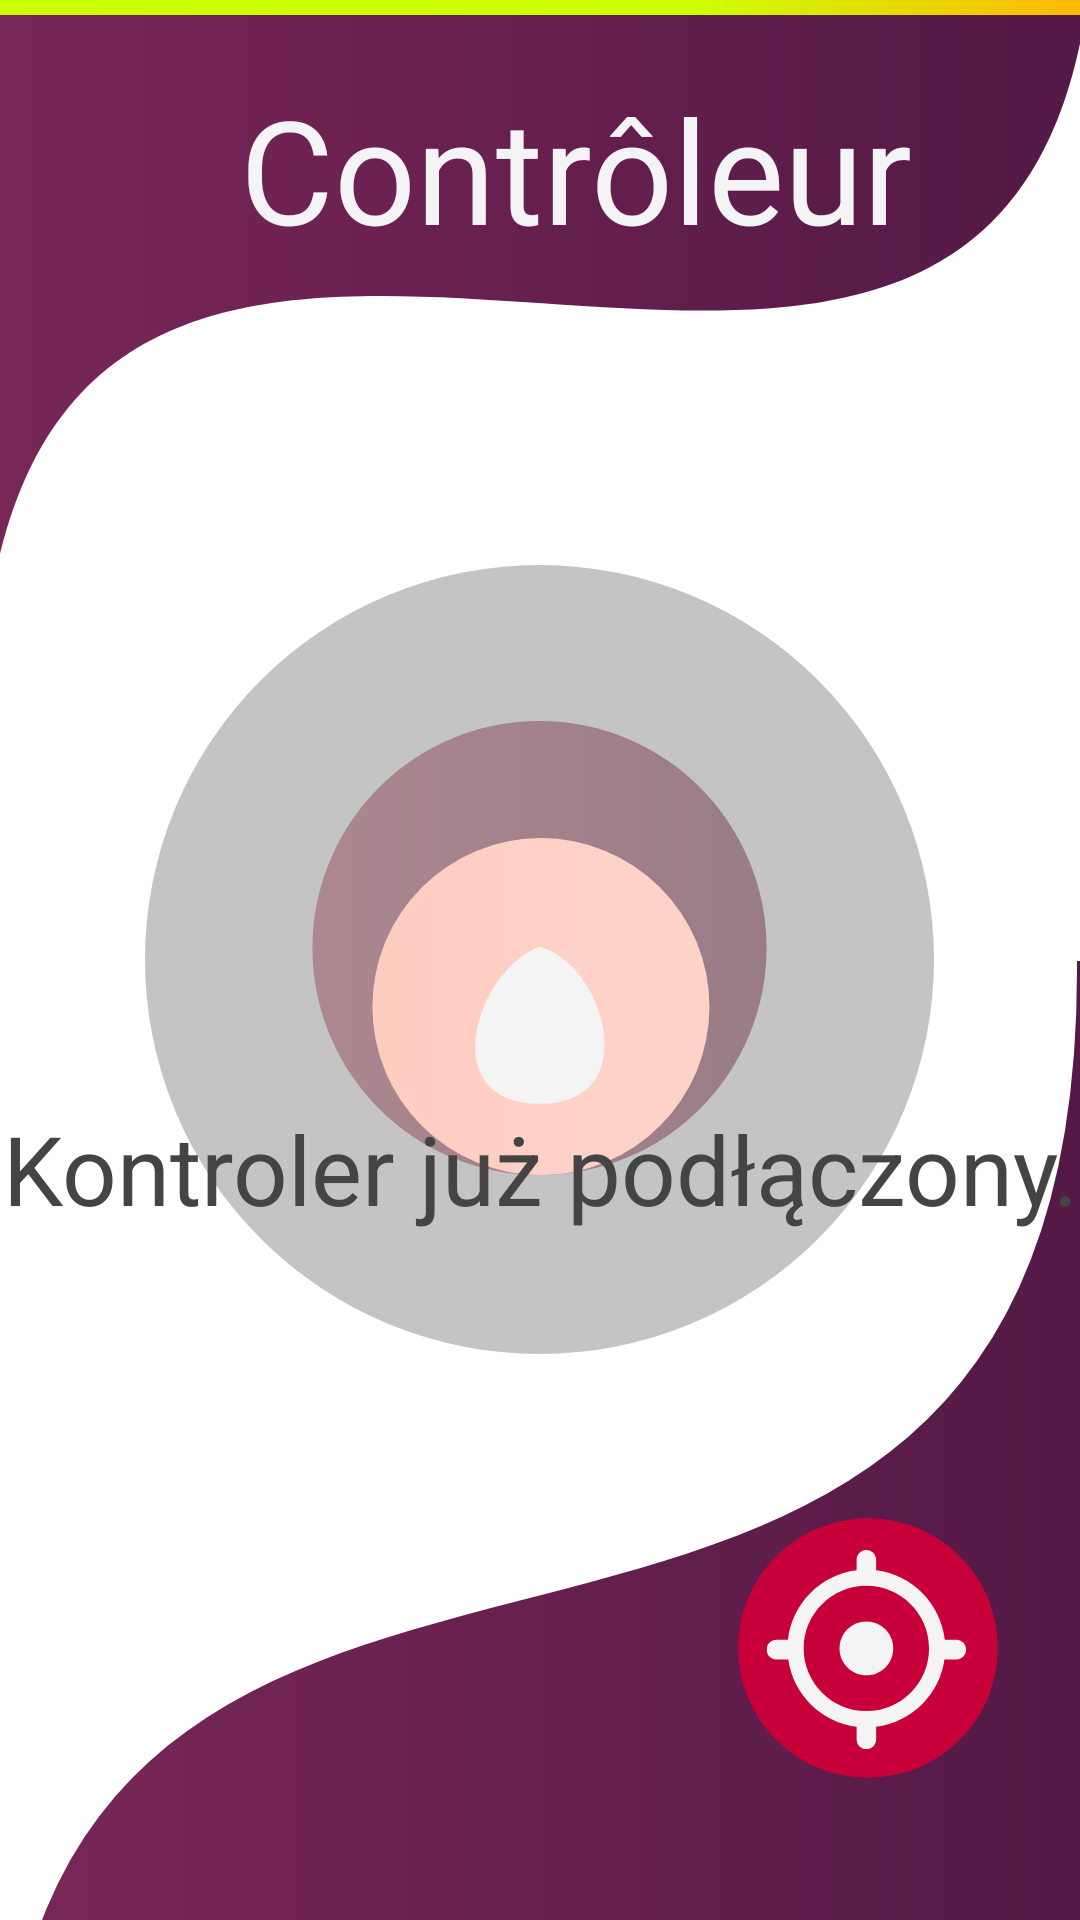

Named icons in this screenshot (1080px×1920px) and their centers, (x,y):
Calibration button: (868,1648)
